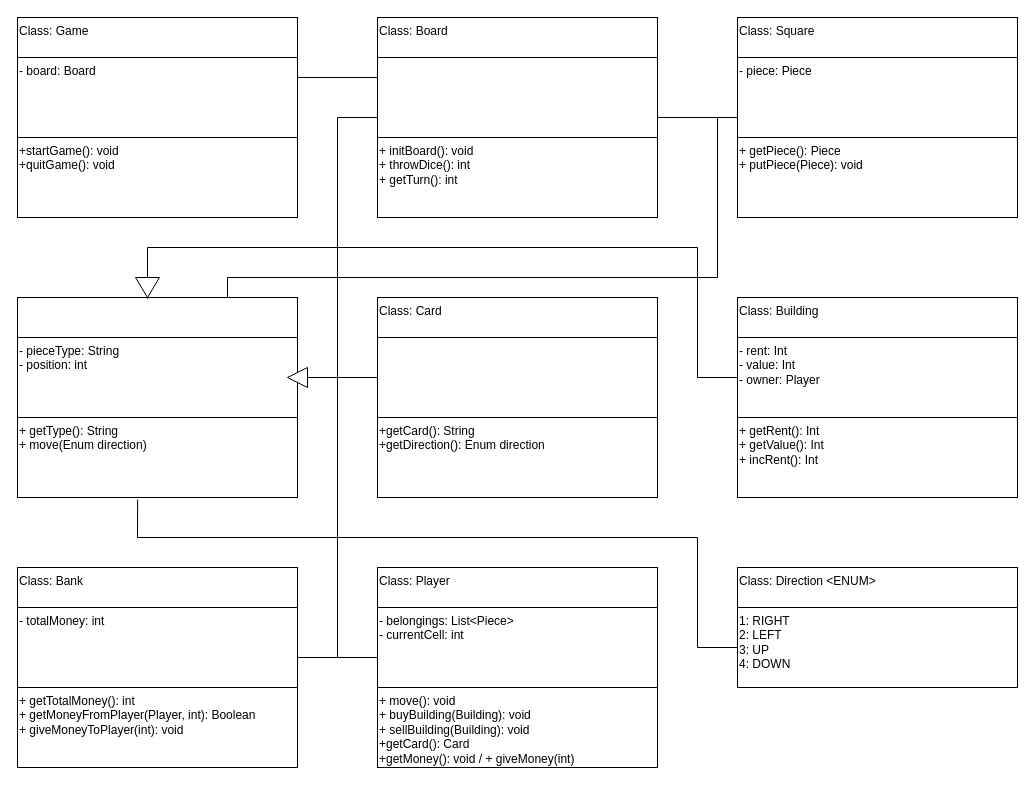
Some shapes in this 1035 by 785 pixel diagram are drawn without their labels. The box of each missing label's shape, as (x1, y1, x2, y2) in pixels:
- cardInfo: String: (376, 336, 658, 418)
- squares: List<Square> - players: List<Player>: (376, 56, 658, 138)
Class: Piece: (16, 296, 298, 338)
